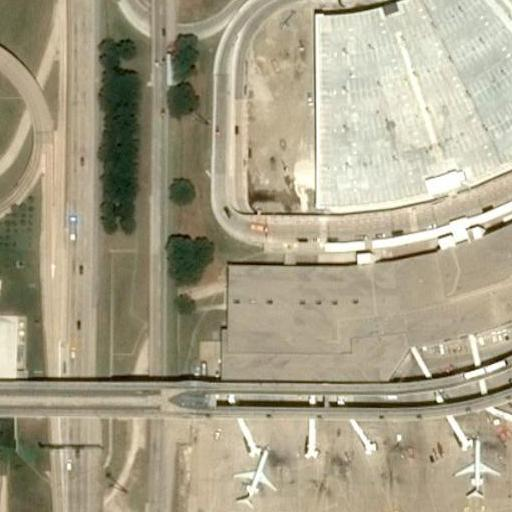Aircraft: (231, 450, 281, 508), (452, 440, 498, 499)
